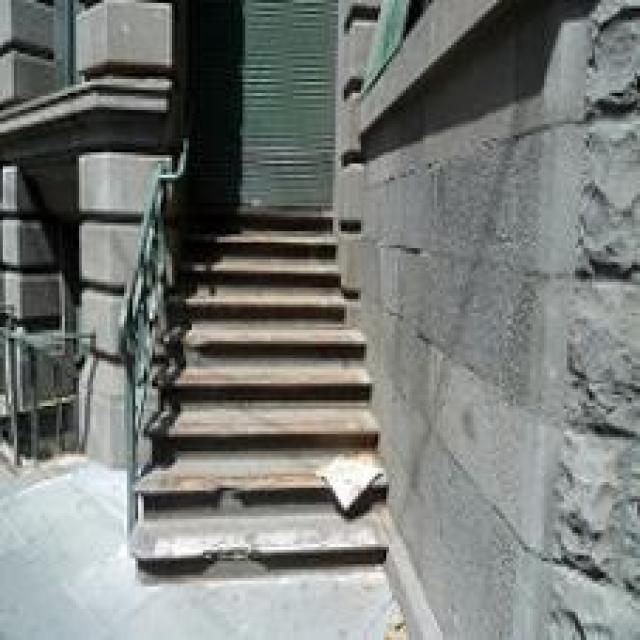upstair: (145, 165, 376, 557)
